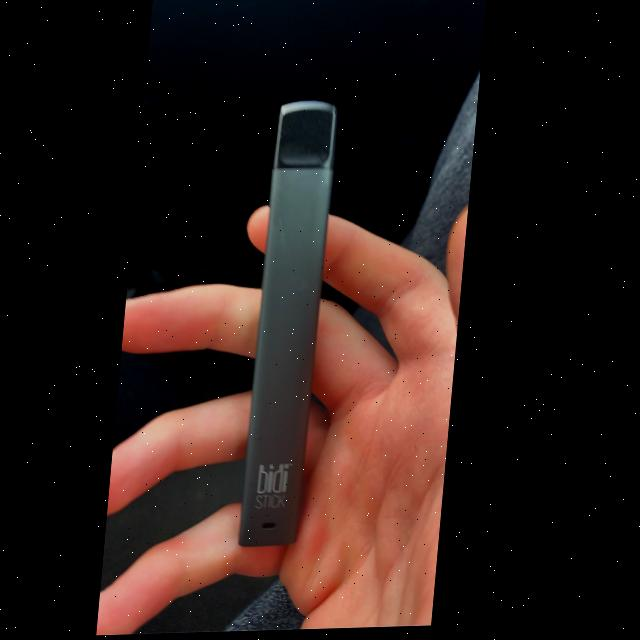vape: (245, 101, 342, 552)
